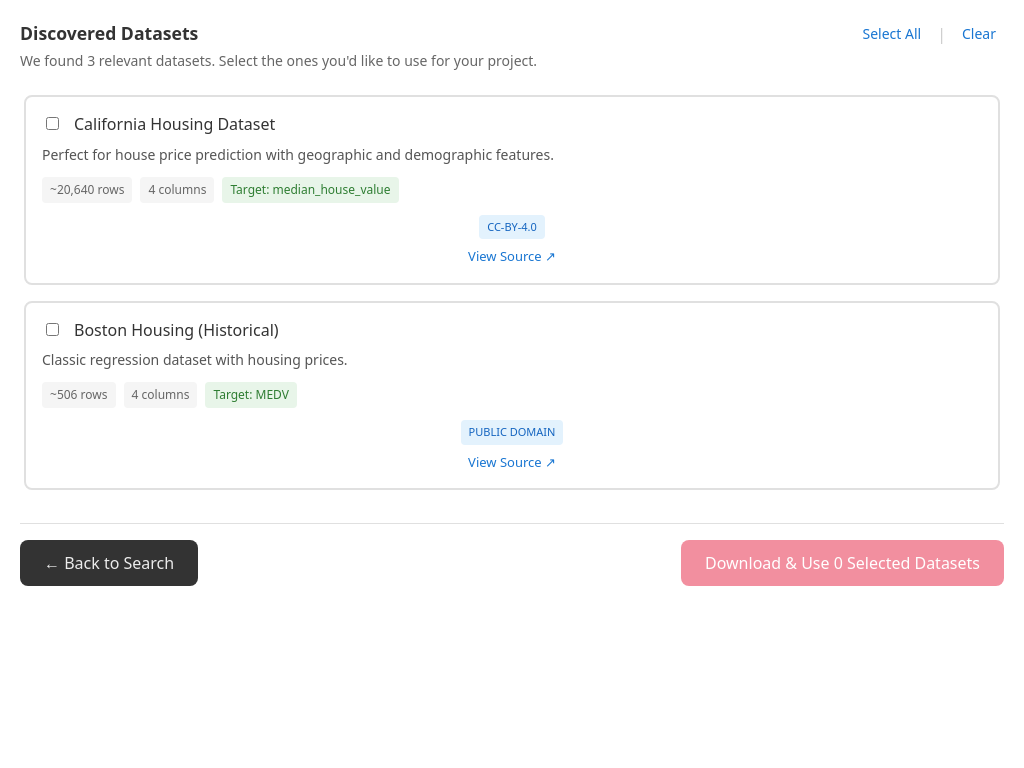
Test: DiscoveredDatasetsList › allows selecting multiple datasets
// Select two datasets
Click the heading "California Housing Dataset". click: click(175, 125)
box: [74,113,275,136]
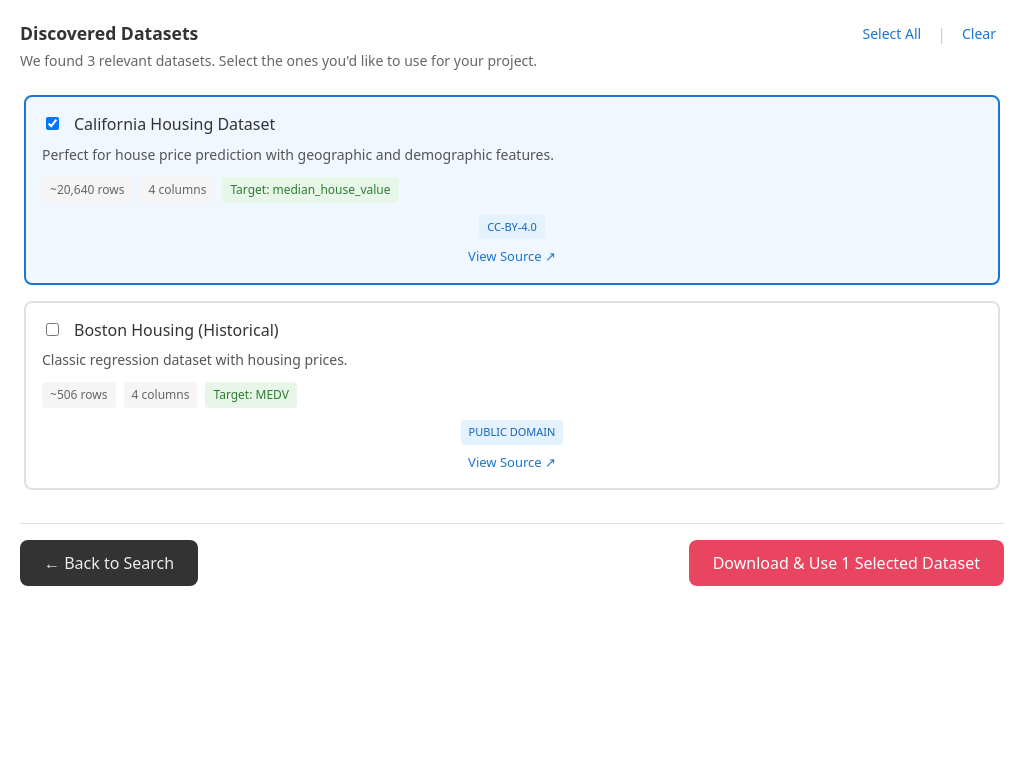
Click the heading "Boston Housing (Historical)". click: click(176, 330)
box: [74,319,279,341]
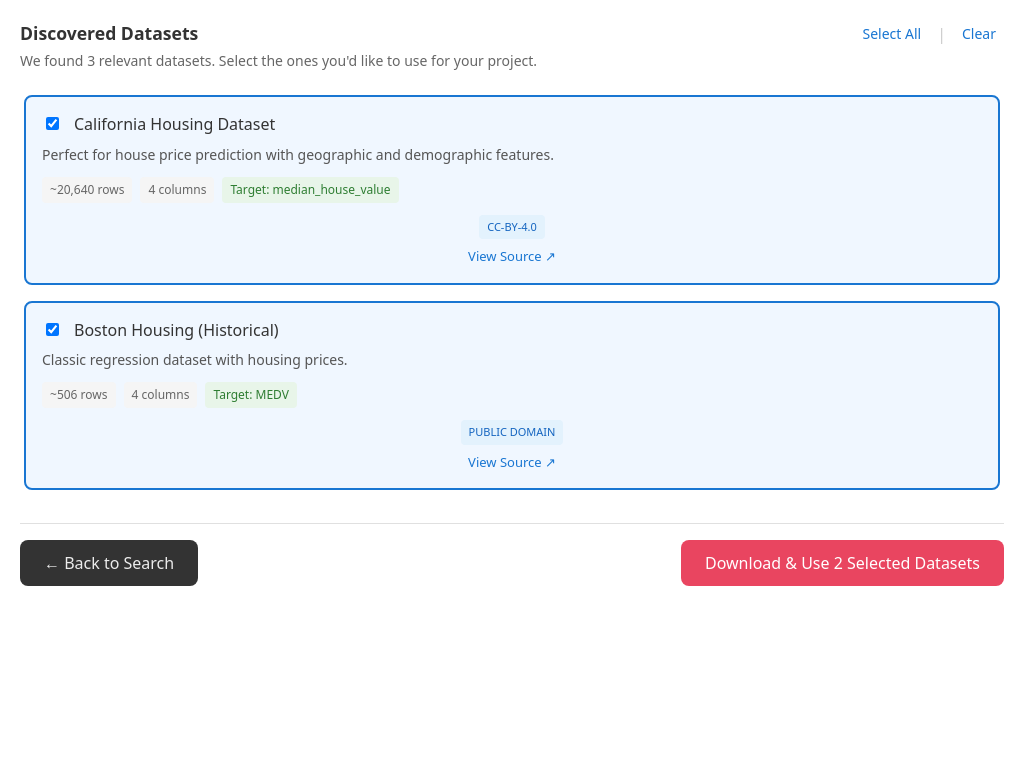
Now the button "Download & Use 2 Selected Datasets" is shown, box [681,540,1004,586]
